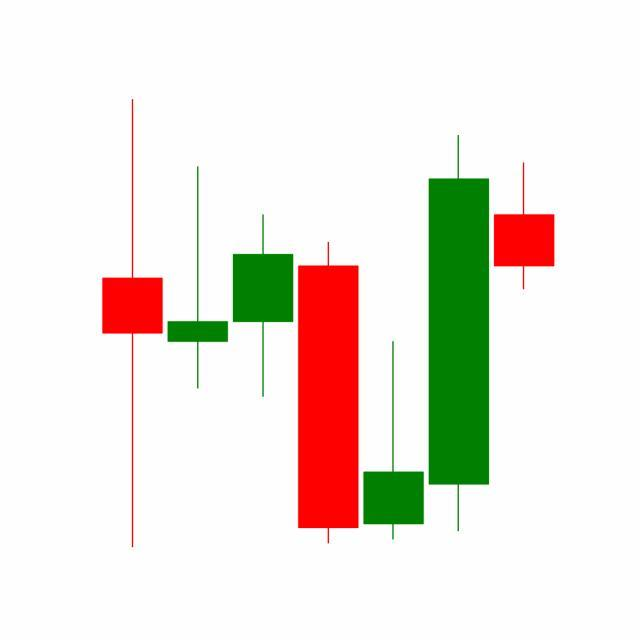Hikkake Pattern: (165, 130, 492, 548)
